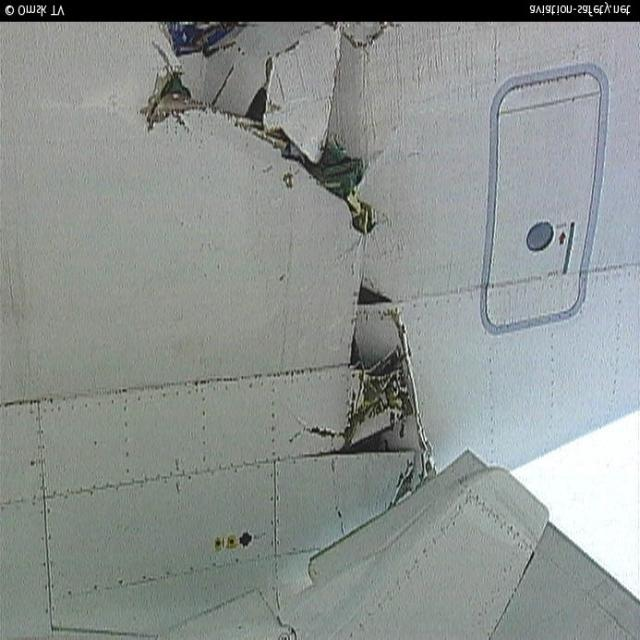crack: (140, 36, 448, 511)
